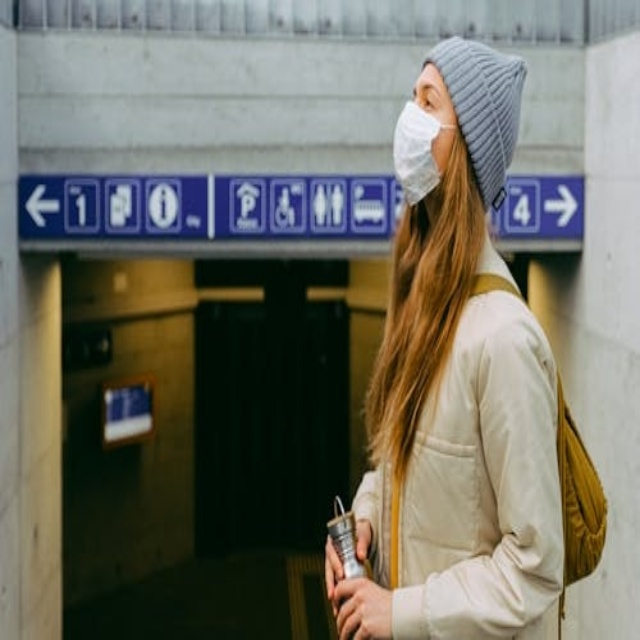Mascara: (392, 98, 448, 205)
Sin_gafas: (424, 96, 432, 109), (412, 87, 419, 99)
Sin_guantes: (330, 571, 394, 640), (324, 524, 367, 615)
